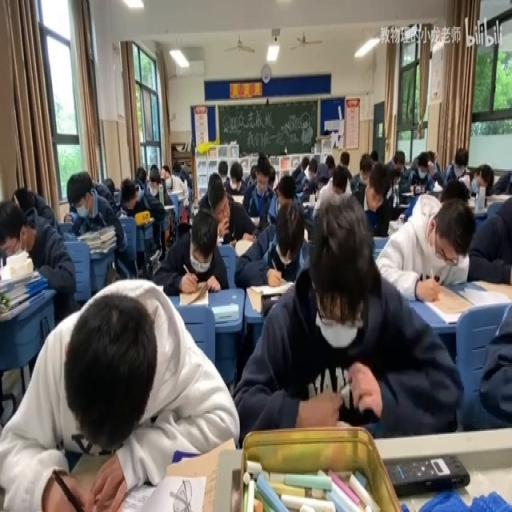calculator: (128, 471, 206, 512), (245, 281, 292, 313), (457, 281, 512, 308), (179, 283, 209, 307), (212, 302, 238, 324), (233, 236, 254, 256), (372, 234, 388, 258), (486, 193, 510, 205), (472, 202, 488, 219), (134, 215, 154, 226), (387, 219, 400, 235), (400, 188, 426, 196), (229, 193, 245, 205), (149, 249, 159, 267), (249, 213, 261, 226), (112, 188, 119, 205), (432, 181, 442, 192), (303, 226, 309, 243), (164, 204, 174, 210), (396, 202, 410, 206)
paper: (235, 195, 456, 439), (2, 277, 235, 508), (1, 192, 74, 330), (66, 169, 130, 283), (151, 205, 227, 296), (474, 294, 512, 427), (467, 189, 512, 286), (123, 174, 165, 263), (242, 154, 276, 224), (349, 154, 374, 202), (462, 164, 496, 196), (165, 176, 180, 244), (382, 150, 404, 188), (438, 179, 469, 205), (223, 158, 245, 193), (13, 185, 36, 216), (291, 156, 309, 192), (330, 164, 350, 192), (276, 172, 294, 203), (178, 160, 192, 190), (302, 198, 316, 228), (134, 165, 148, 188), (102, 176, 115, 199), (454, 146, 468, 165), (426, 151, 436, 172), (171, 159, 181, 178), (267, 164, 275, 186), (339, 151, 350, 166), (324, 154, 334, 170), (248, 165, 258, 181), (317, 180, 326, 194), (149, 174, 158, 186), (370, 149, 378, 162), (62, 212, 72, 222), (162, 164, 170, 176), (309, 168, 317, 179)
person: (384, 454, 468, 496), (221, 232, 233, 244)
